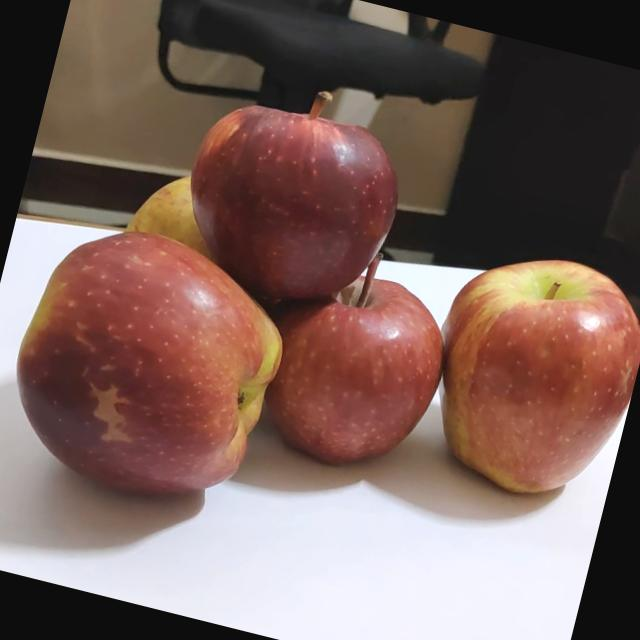apple: (0, 204, 309, 525), (160, 58, 428, 325), (404, 230, 640, 521), (234, 230, 463, 488), (118, 151, 278, 280)
